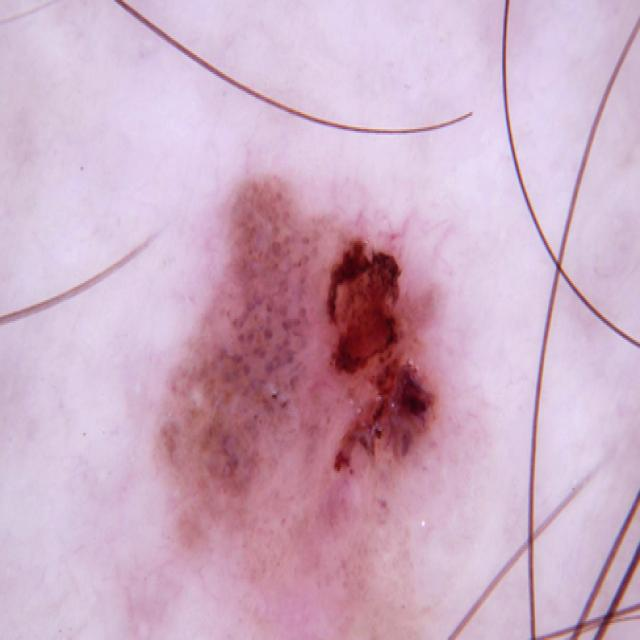Carcinoma: (164, 147, 489, 583)
